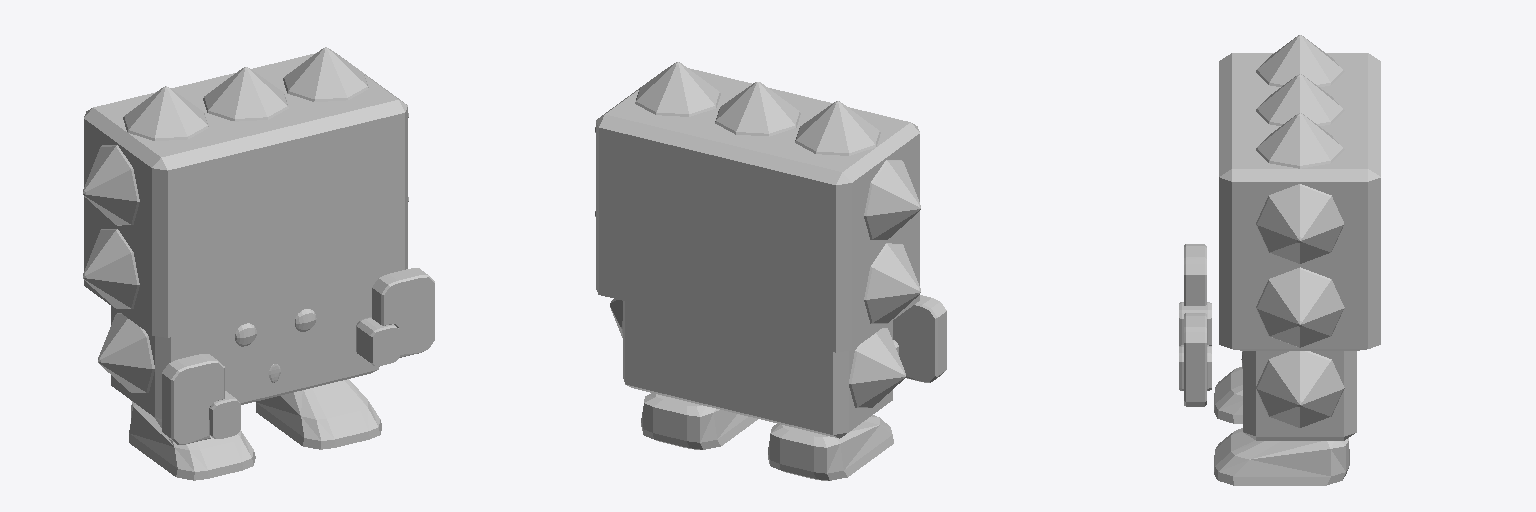
Rendered from Walleye.obj.
3 views of the same model, side by side, from view 1: azimuth 30°, elevation 25°; view 2: azimuth 150°, elevation 25°; view 3: azimuth 270°, elevation 25° (orthographic).
Visible parts, largest first — view 1: Body, Hands, Foot_L, Foot_R, Eyes; view 2: Body, Foot_R, Foot_L, Hands; view 3: Body, Foot_L, Hands, Foot_R.
Part boxes in pixels (x1,y1,x2,y2): Body: (83,47,408,421); Hands: (162,268,434,444); Foot_L: (256,379,381,449); Foot_R: (129,401,255,480); Eyes: (235,309,316,346); Body: (595,62,920,438); Foot_R: (768,415,893,480); Foot_L: (641,393,757,449); Hands: (893,295,946,382); Body: (1219,35,1380,440); Foot_L: (1214,428,1349,485); Hands: (1179,244,1211,406); Foot_R: (1214,367,1242,423).
Size of the model in its own units: 1.09 by 1.17 by 0.5881.